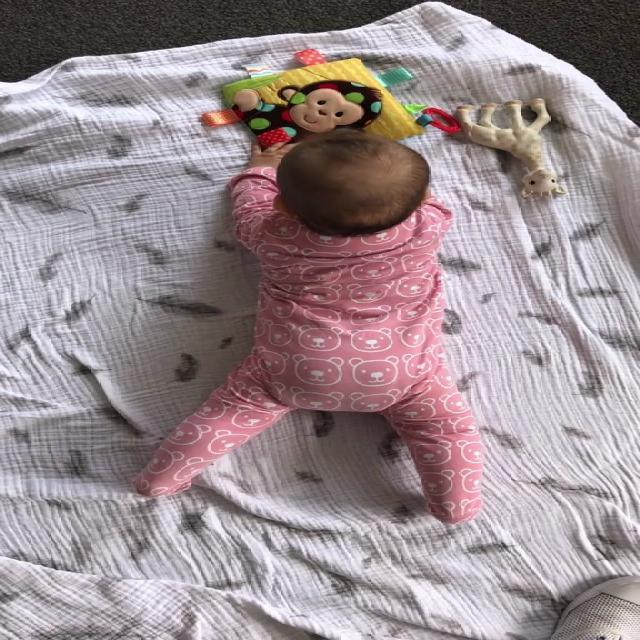baby: (133, 125, 502, 525)
